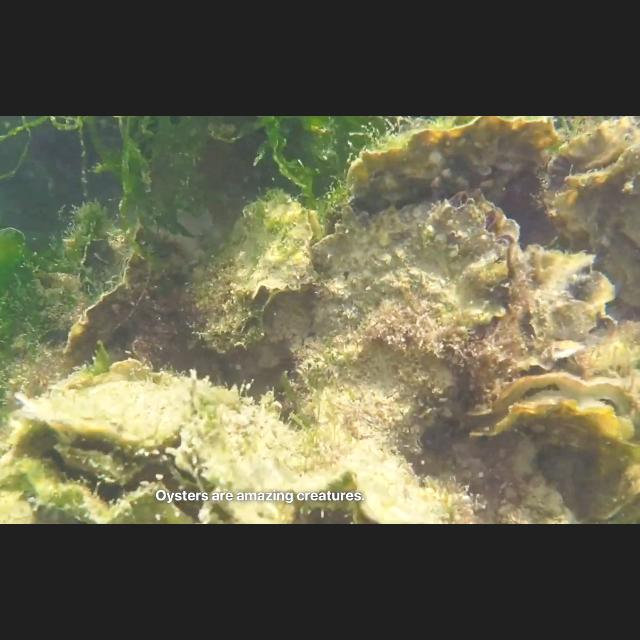Oyster-Closed: (346, 116, 562, 222), (62, 255, 192, 375)
Oyster-Open: (290, 188, 532, 454), (0, 381, 206, 524), (543, 115, 640, 310), (168, 379, 296, 525), (465, 371, 640, 461), (277, 452, 458, 524), (522, 240, 618, 370), (237, 203, 323, 319), (185, 242, 269, 356), (589, 463, 640, 524)
